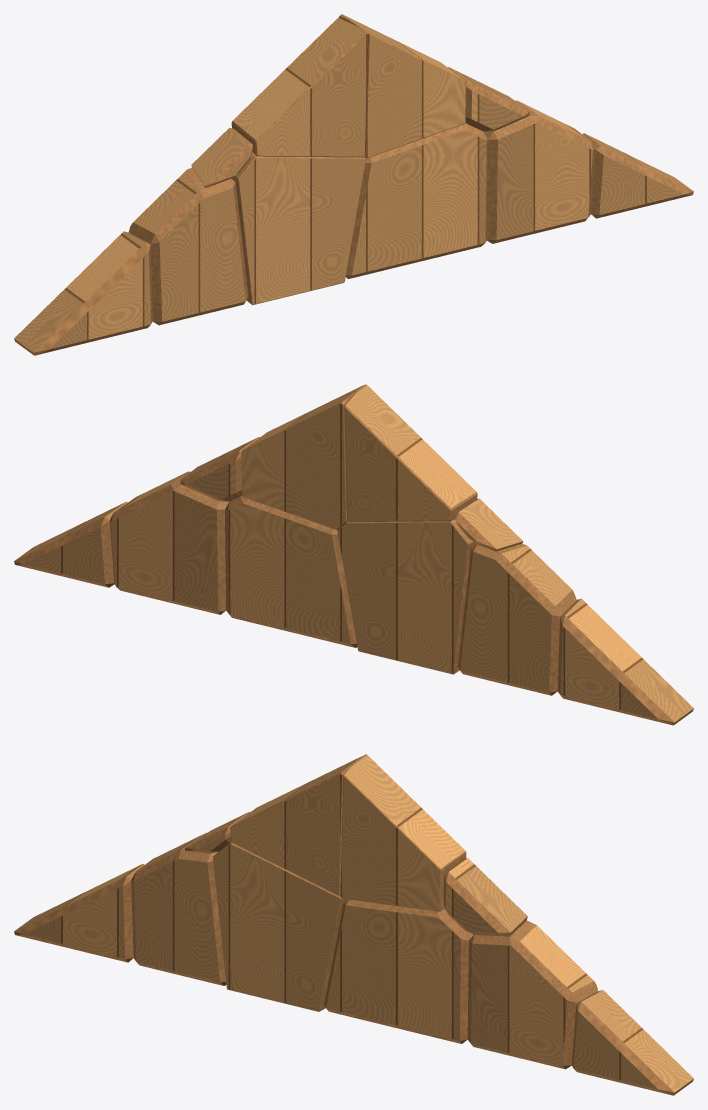
File: Kit_Wood_Gable_Fractured.fbx
3 renders of one model, top to bottom at view 1: azimuth 30°, elevation 25°; view 2: azimuth 150°, elevation 25°; view 3: azimuth 330°, elevation 25°, orthographic.
Parts seen in each view (by area): view 1: Kit_Wood_Gable_frag_06, Kit_Wood_Gable_frag_04, Kit_Wood_Gable_frag_05, Kit_Wood_Gable_frag_02, Kit_Wood_Gable_frag_08, Kit_Wood_Gable_frag_01, Kit_Wood_Gable_frag_07, Kit_Wood_Gable_frag_10, Kit_Wood_Gable_frag_09, Kit_Wood_Gable_frag_03; view 2: Kit_Wood_Gable_frag_04, Kit_Wood_Gable_frag_06, Kit_Wood_Gable_frag_02, Kit_Wood_Gable_frag_08, Kit_Wood_Gable_frag_05, Kit_Wood_Gable_frag_07, Kit_Wood_Gable_frag_01, Kit_Wood_Gable_frag_10, Kit_Wood_Gable_frag_09, Kit_Wood_Gable_frag_03; view 3: Kit_Wood_Gable_frag_06, Kit_Wood_Gable_frag_04, Kit_Wood_Gable_frag_08, Kit_Wood_Gable_frag_07, Kit_Wood_Gable_frag_02, Kit_Wood_Gable_frag_05, Kit_Wood_Gable_frag_10, Kit_Wood_Gable_frag_01, Kit_Wood_Gable_frag_09, Kit_Wood_Gable_frag_03.
Part boxes in pixels (x1=…): Kit_Wood_Gable_frag_06: x1=346, y1=123, x2=488, y2=278; Kit_Wood_Gable_frag_04: x1=231, y1=152, x2=366, y2=305; Kit_Wood_Gable_frag_05: x1=231, y1=17, x2=367, y2=157; Kit_Wood_Gable_frag_02: x1=128, y1=167, x2=248, y2=325; Kit_Wood_Gable_frag_08: x1=484, y1=100, x2=595, y2=243; Kit_Wood_Gable_frag_01: x1=14, y1=231, x2=152, y2=355; Kit_Wood_Gable_frag_07: x1=339, y1=14, x2=465, y2=158; Kit_Wood_Gable_frag_10: x1=582, y1=133, x2=693, y2=218; Kit_Wood_Gable_frag_09: x1=448, y1=67, x2=529, y2=131; Kit_Wood_Gable_frag_03: x1=191, y1=127, x2=253, y2=187; Kit_Wood_Gable_frag_04: x1=337, y1=519, x2=476, y2=674; Kit_Wood_Gable_frag_06: x1=225, y1=495, x2=357, y2=647; Kit_Wood_Gable_frag_02: x1=458, y1=543, x2=576, y2=695; Kit_Wood_Gable_frag_08: x1=109, y1=471, x2=228, y2=614; Kit_Wood_Gable_frag_05: x1=344, y1=384, x2=477, y2=522; Kit_Wood_Gable_frag_07: x1=241, y1=385, x2=363, y2=529; Kit_Wood_Gable_frag_01: x1=557, y1=598, x2=693, y2=725; Kit_Wood_Gable_frag_10: x1=14, y1=501, x2=127, y2=587; Kit_Wood_Gable_frag_09: x1=180, y1=437, x2=259, y2=501; Kit_Wood_Gable_frag_03: x1=454, y1=498, x2=523, y2=551; Kit_Wood_Gable_frag_06: x1=324, y1=899, x2=473, y2=1043; Kit_Wood_Gable_frag_04: x1=213, y1=842, x2=347, y2=1011; Kit_Wood_Gable_frag_08: x1=467, y1=920, x2=597, y2=1069; Kit_Wood_Gable_frag_07: x1=340, y1=754, x2=466, y2=911; Kit_Wood_Gable_frag_02: x1=131, y1=832, x2=226, y2=985; Kit_Wood_Gable_frag_05: x1=230, y1=756, x2=362, y2=896; Kit_Wood_Gable_frag_10: x1=571, y1=990, x2=693, y2=1095; Kit_Wood_Gable_frag_01: x1=14, y1=864, x2=144, y2=962; Kit_Wood_Gable_frag_09: x1=443, y1=858, x2=527, y2=936; Kit_Wood_Gable_frag_03: x1=184, y1=812, x2=249, y2=853.
Size of what is drawn, in the model's own units: 2.96 by 1.05 by 0.2.
2 materials, 2 textured.
